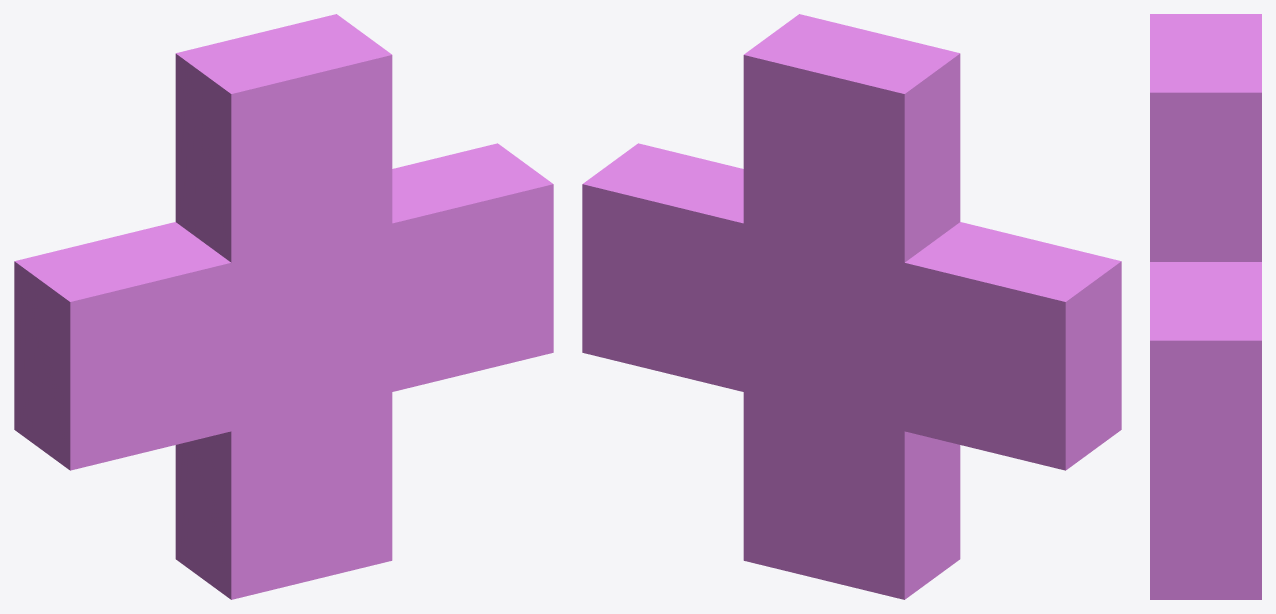
Rendered from Points.FBX.
The picture shows the model from 3 angles, left to right: view 1: azimuth 30°, elevation 25°; view 2: azimuth 150°, elevation 25°; view 3: azimuth 270°, elevation 25°; orthographic projection.
Visible parts, largest first — view 1: Line001; view 2: Line001; view 3: Line001.
Boxes of the visible parts, bbox=[...] form: Line001: bbox=[14, 14, 553, 599]; Line001: bbox=[582, 14, 1121, 599]; Line001: bbox=[1150, 14, 1261, 599].
Bounding box in the file's own units: 30 × 30 × 6.
